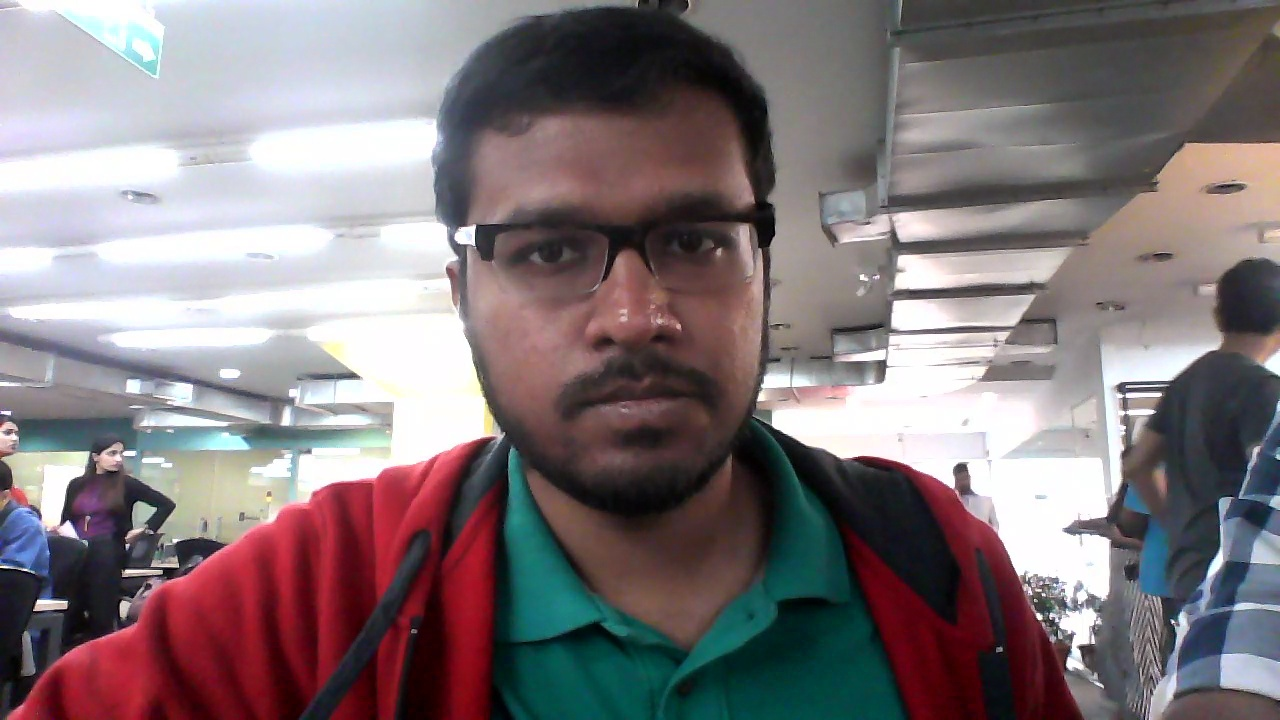open: (435, 7, 797, 521)
